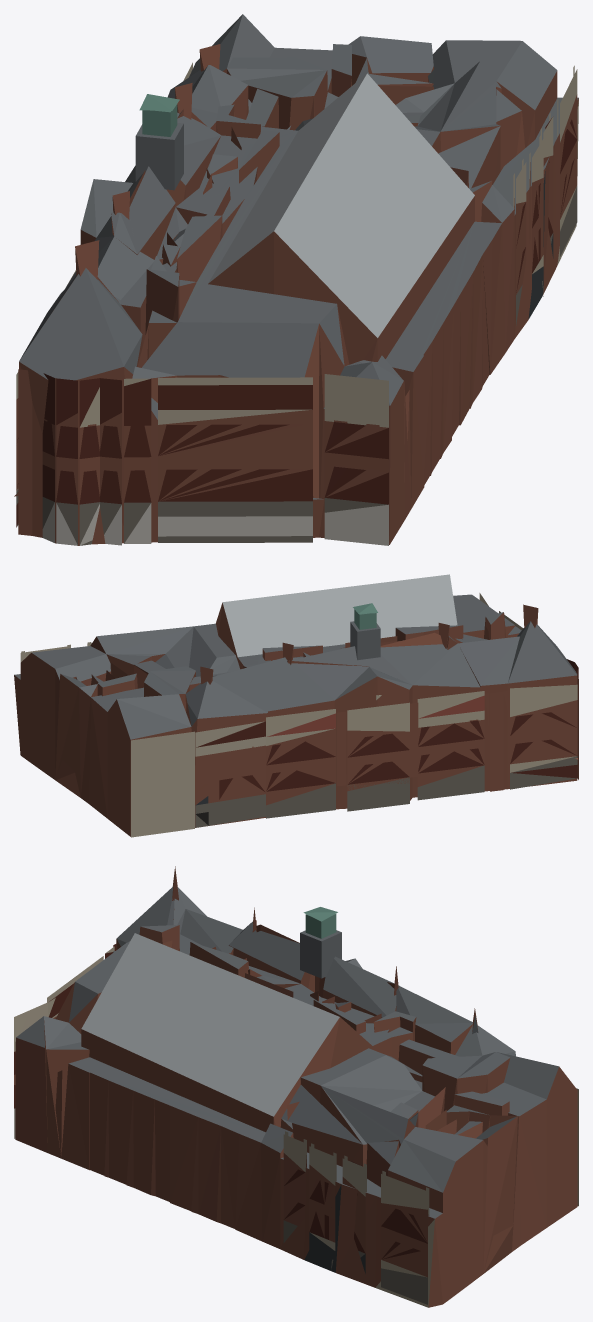
File: effectenbeurs.lod2.glb
3 renders of one model, top to bottom at view 1: azimuth 30°, elevation 25°; view 2: azimuth 150°, elevation 25°; view 3: azimuth 270°, elevation 25°, orthographic. The views are drawn at different scales.
Parts seen in each view (by area): view 1: lod2; view 2: lod2; view 3: lod2.
Part boxes in pixels (x1,y1,x2,y2): lod2: [14, 14, 578, 545]; lod2: [14, 574, 578, 837]; lod2: [14, 866, 578, 1307].
Bounding box in the file's own units: 94.09 × 35.9 × 83.93.
